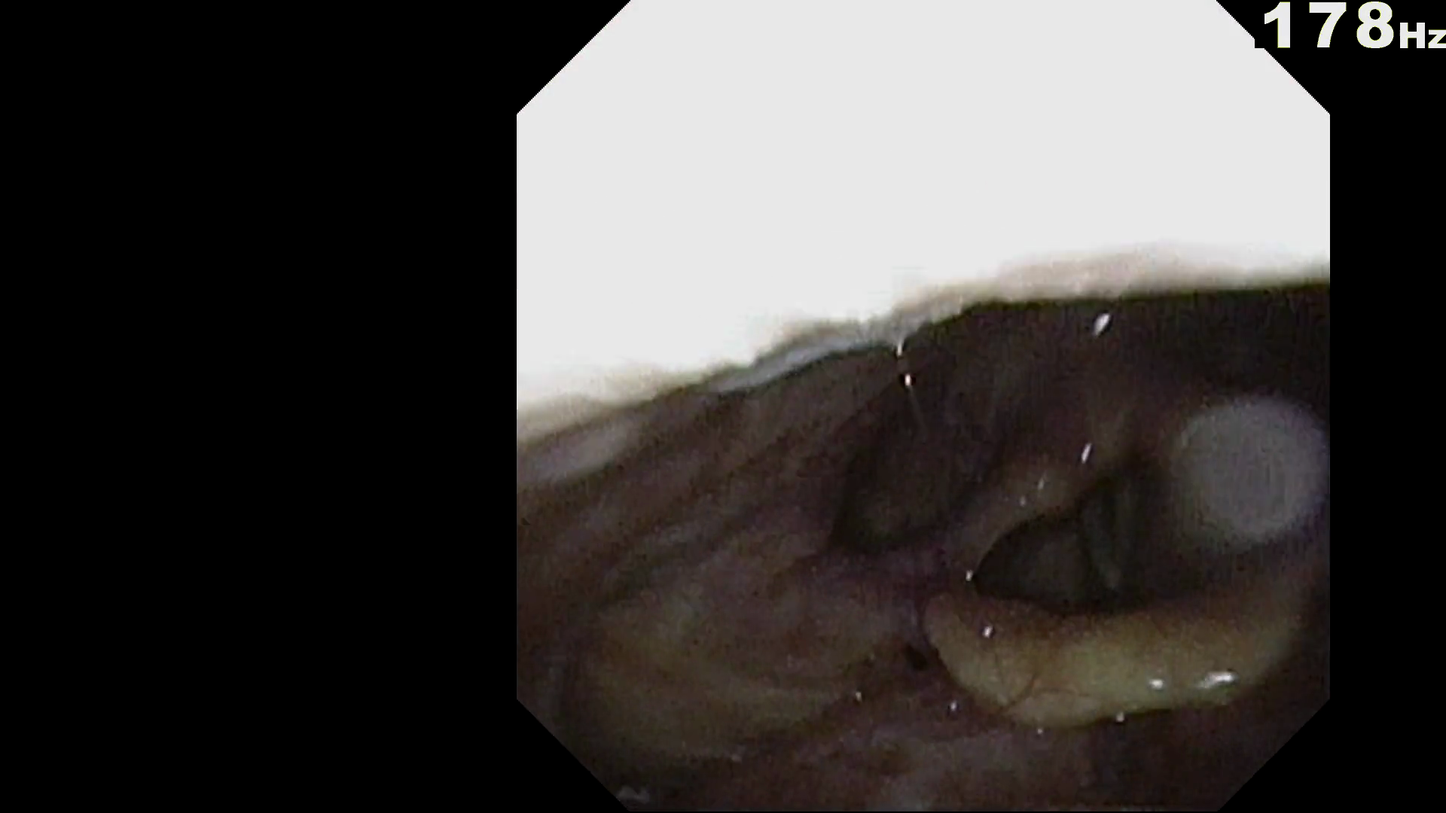epiglottis: (892, 551, 1294, 721)
trachea: (1058, 442, 1172, 576)
